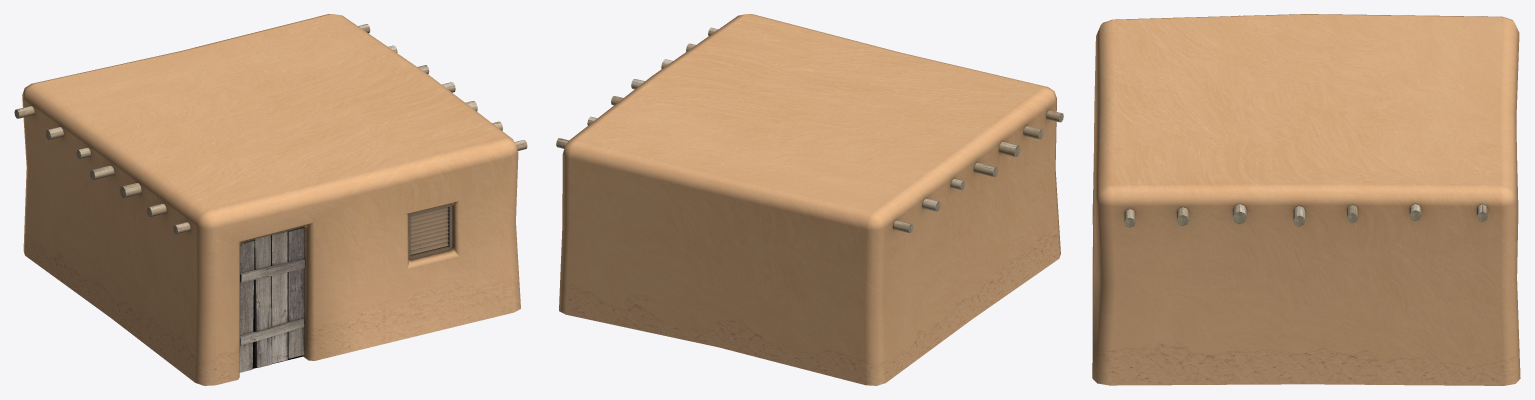
The picture shows the model from 3 angles, left to right: view 1: azimuth 30°, elevation 25°; view 2: azimuth 150°, elevation 25°; view 3: azimuth 270°, elevation 25°; orthographic projection. The views are drawn at different scales.
Parts seen in each view (by area): view 1: Building_1.002; view 2: Building_1.002; view 3: Building_1.002.
Part boxes in pixels (x1,y1,x2,y2): Building_1.002: (14,14,527,385); Building_1.002: (556,14,1063,385); Building_1.002: (1092,14,1520,385).
Size of the model in its own units: 224 by 102 by 202.
